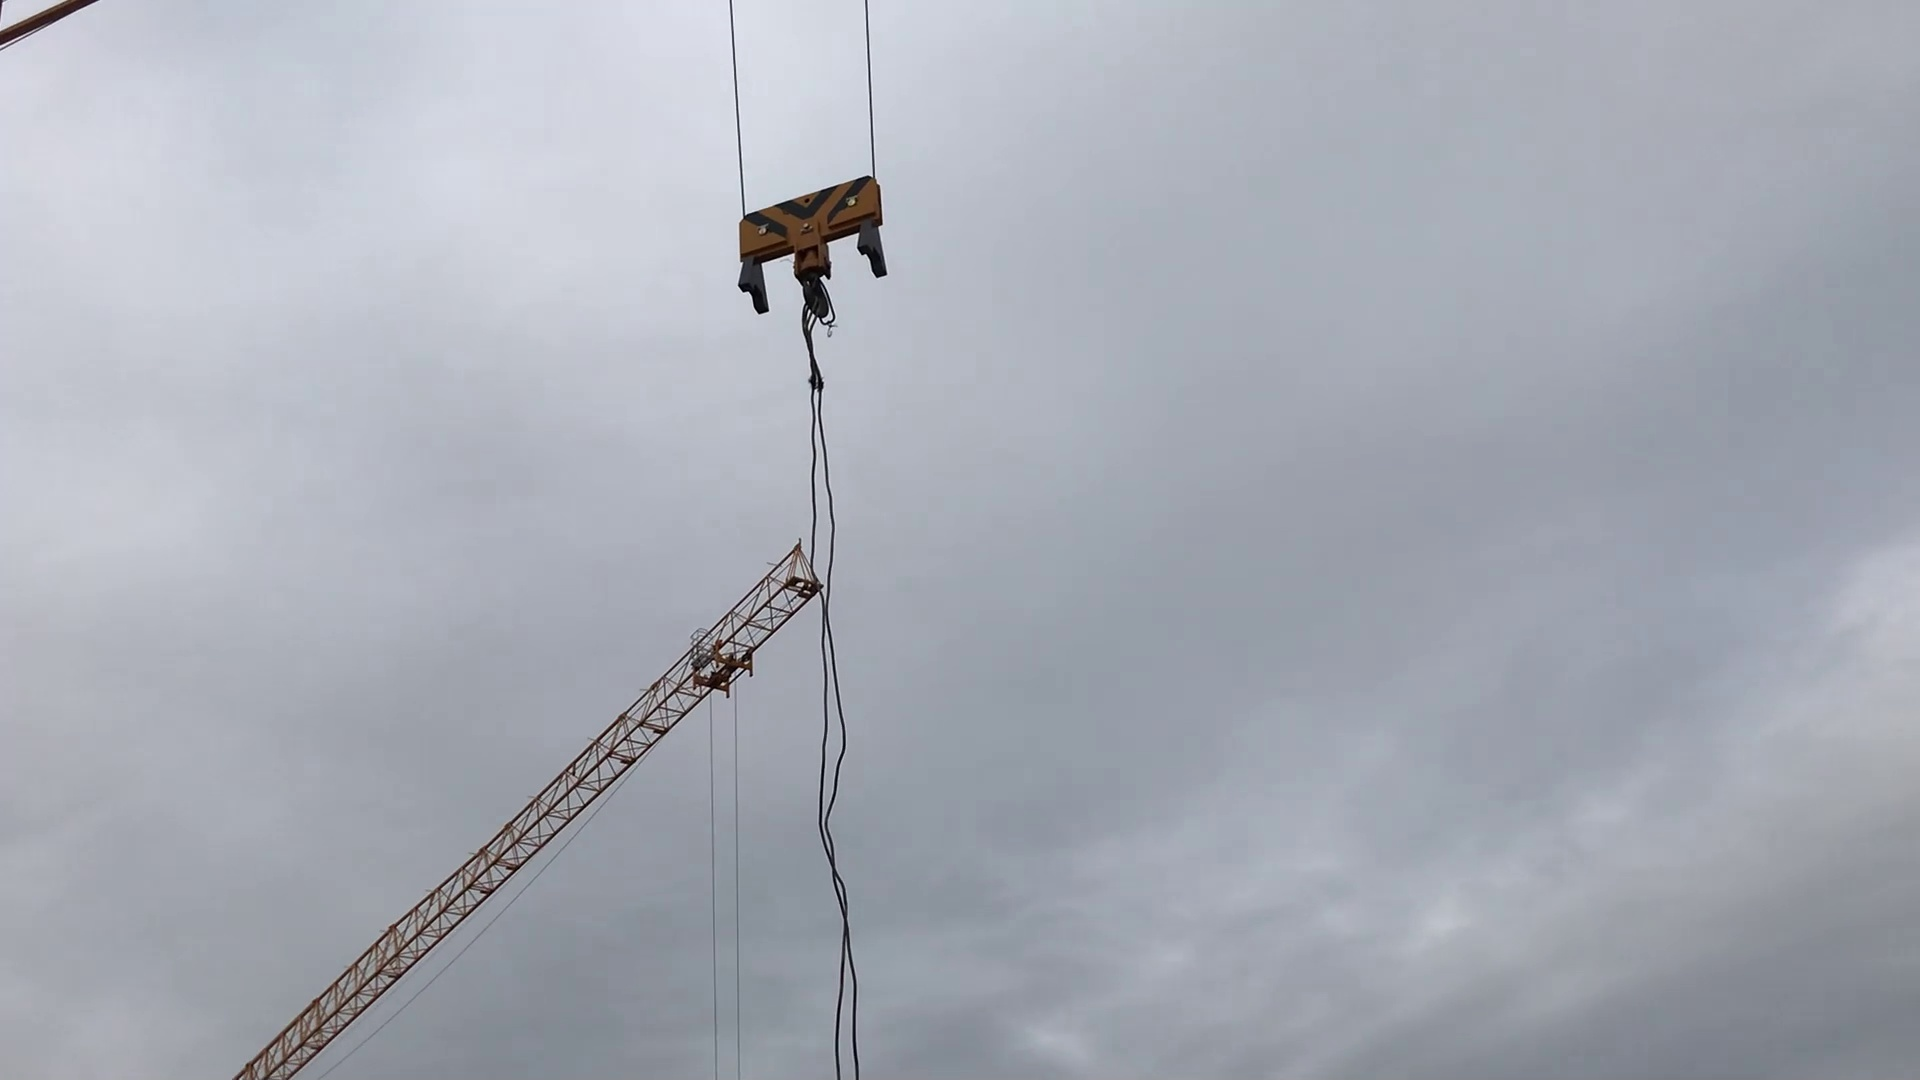hook: (728, 171, 899, 352)
